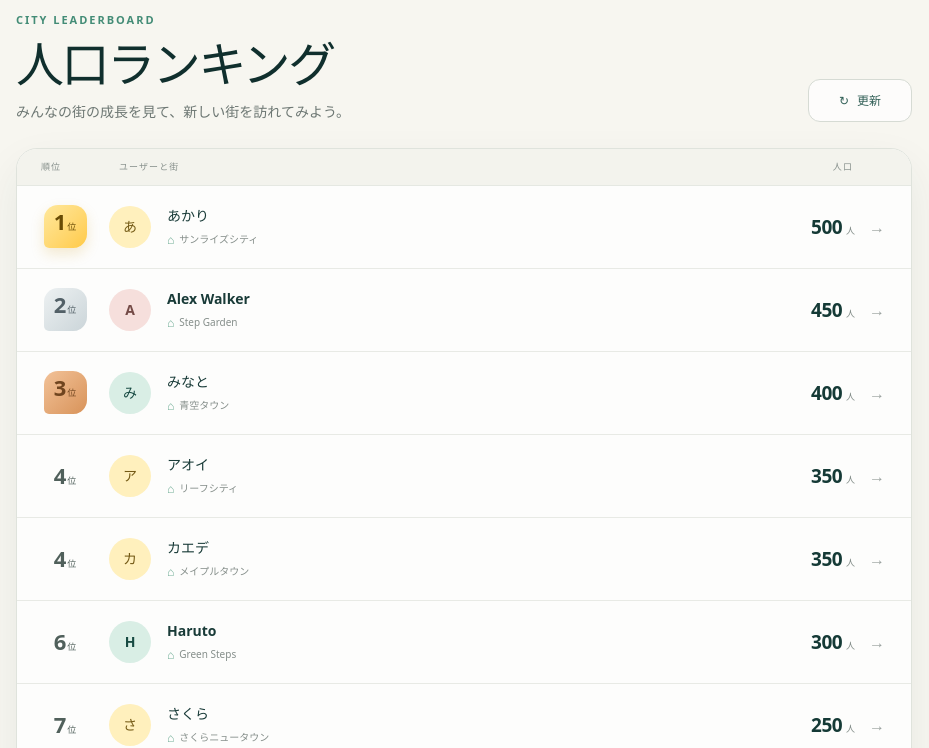
it: PopulationRanking › keeps the ranking visible when refresh fails
Step 1. Click the button "↻ 更新" → x=860, y=101, box [808,79,912,122]
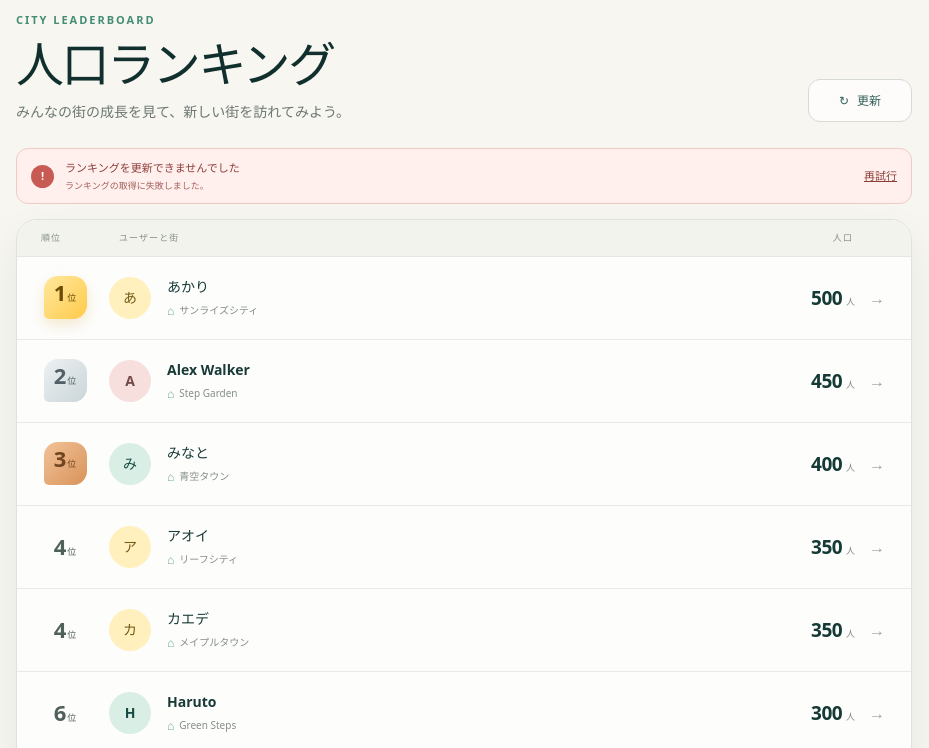
Now the text "ランキングを更新できませんでした" is shown, box [65,160,240,175]
